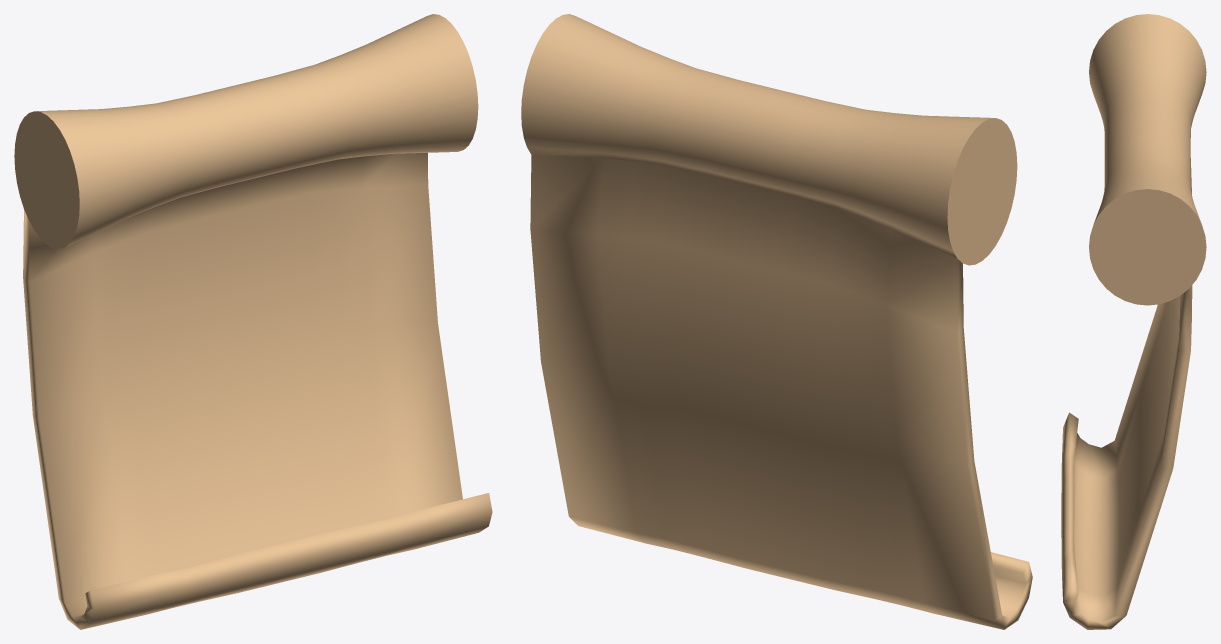
File: ParcheminOuvert_00.fbx
3 renders of one model, left to right at view 1: azimuth 30°, elevation 25°; view 2: azimuth 150°, elevation 25°; view 3: azimuth 270°, elevation 25°, orthographic. The views are drawn at different scales.
Parts seen in each view (by area): view 1: ParcheminOuvert_00; view 2: ParcheminOuvert_00; view 3: ParcheminOuvert_00.
Part boxes in pixels (x1,y1,x2,y2): ParcheminOuvert_00: (14, 14, 492, 629); ParcheminOuvert_00: (521, 14, 1032, 629); ParcheminOuvert_00: (1061, 14, 1206, 629).
Size of the model in its own units: 0.7502 by 0.8841 by 0.2628.
